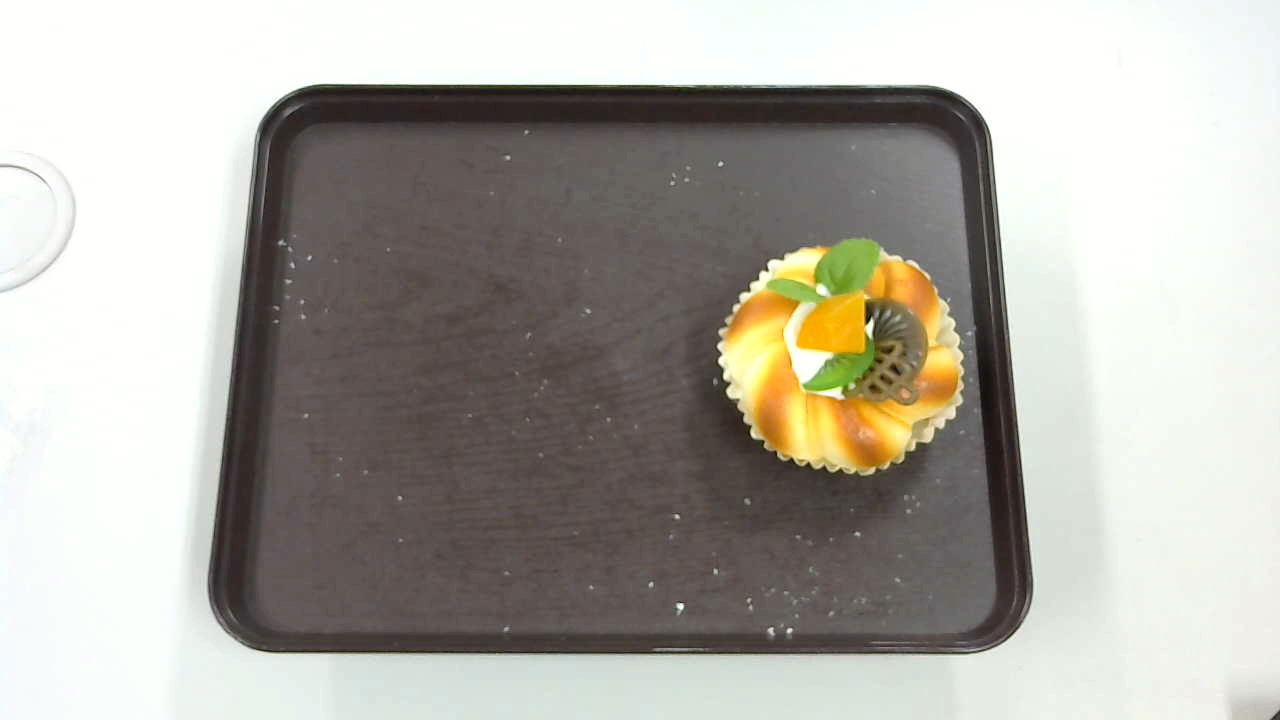fruit tart: (717, 236, 965, 474)
